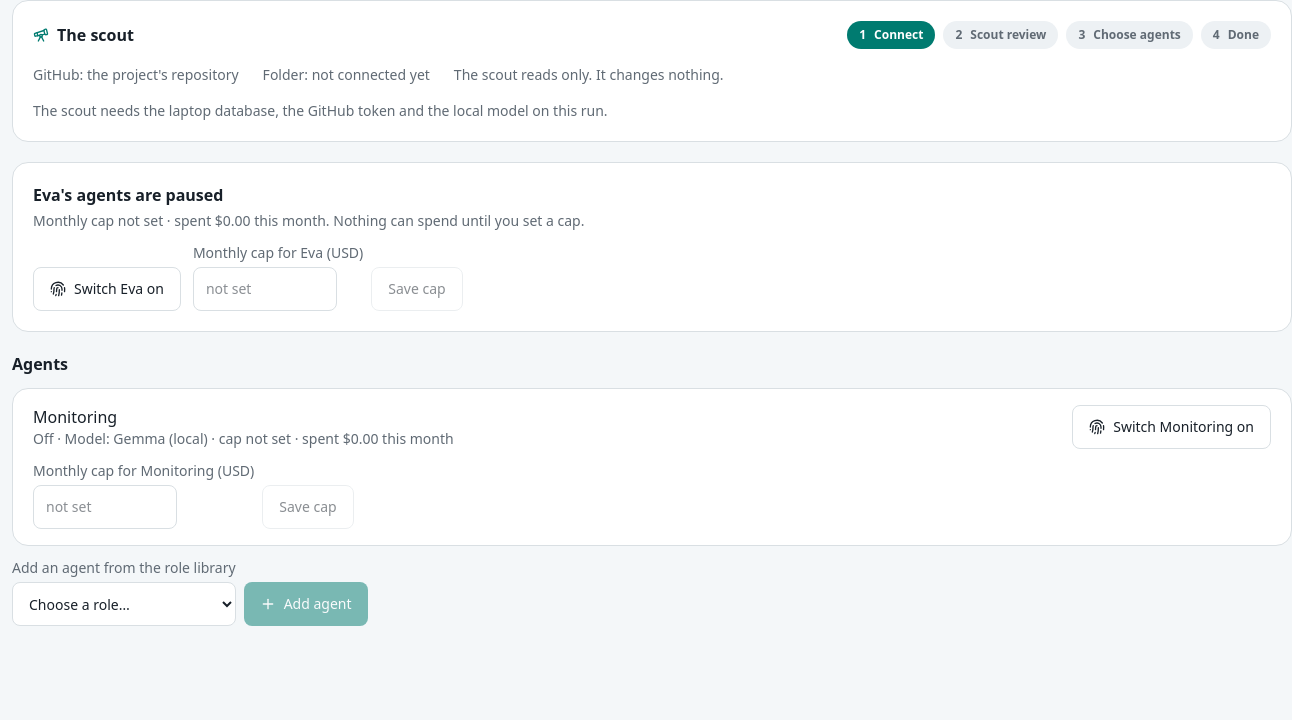
Test: the Agents tab › closing Windows Hello changes nothing and says so
This screenshot has width=1292, height=720.
Click the button "Switch Monitoring on".
click(1172, 427)  # box [1072,405,1271,449]
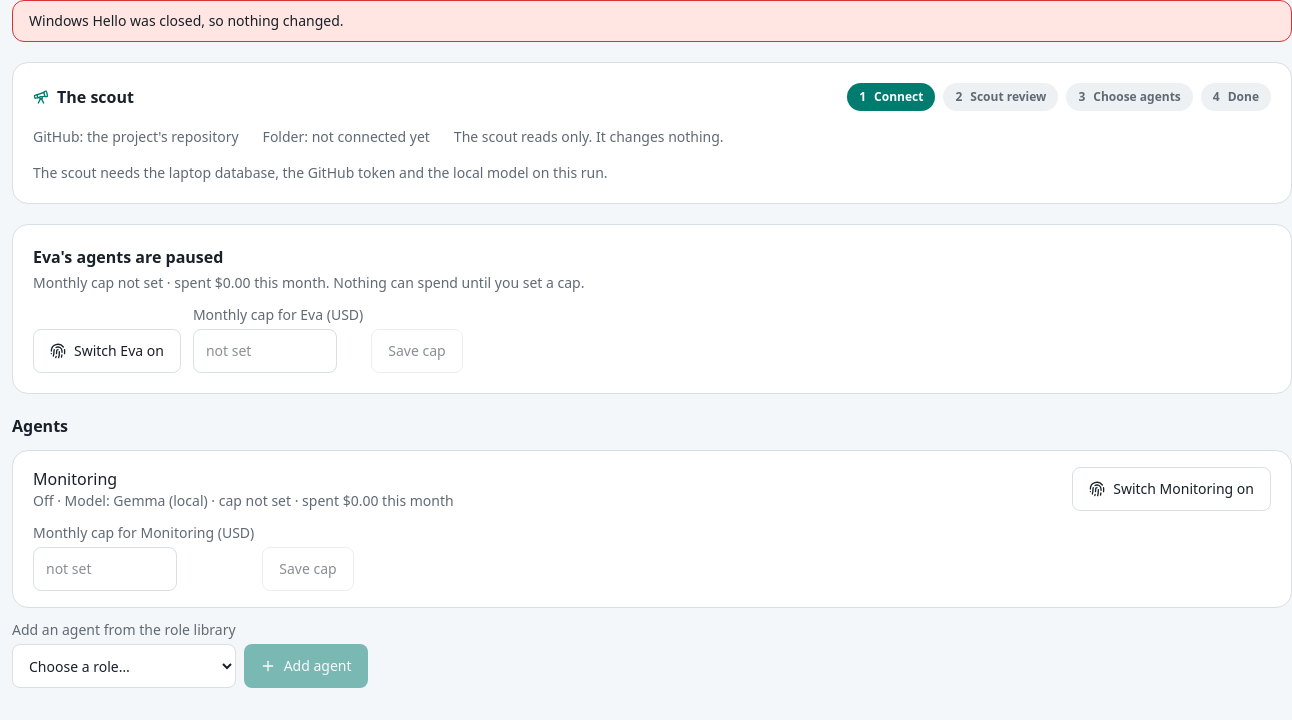
Check: the button "Switch Monitoring on" is shown, box [1072,467,1271,511]
Check: the message reads "Windows Hello was closed, so nothing changed.", box [29,11,344,30]
